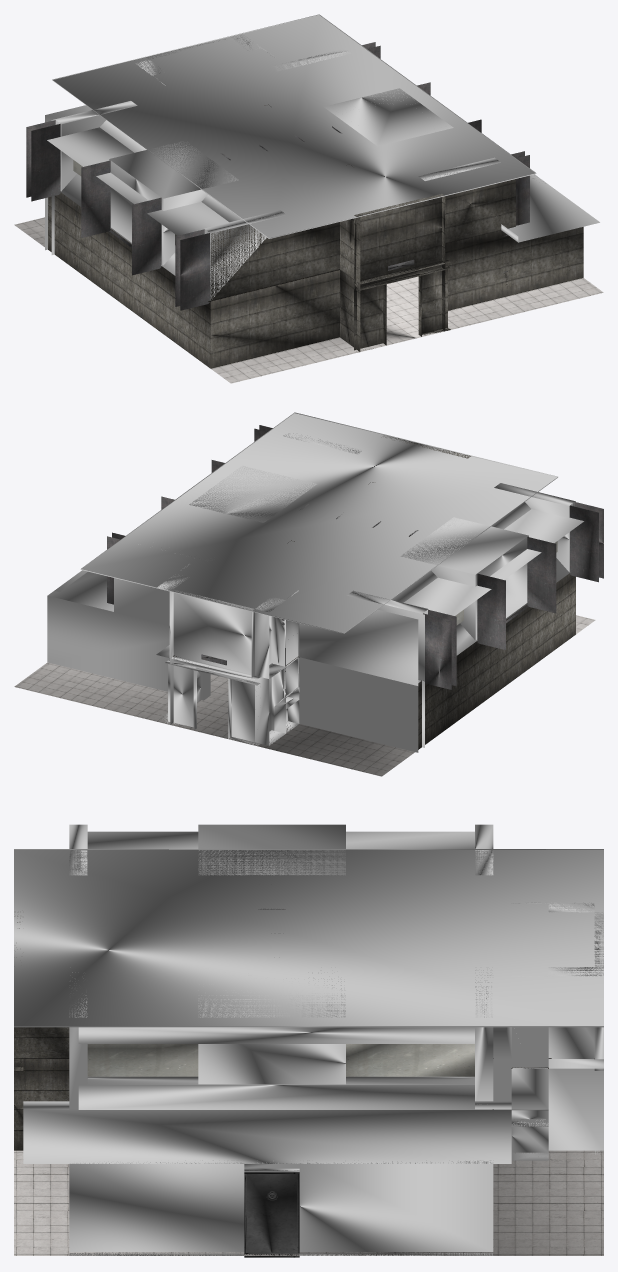
Rendered from checkpoint1_opt.obj.
3 renders of one model, top to bottom at view 1: azimuth 30°, elevation 25°; view 2: azimuth 150°, elevation 25°; view 3: azimuth 270°, elevation 25°, orthographic. The views are drawn at different scales.
Bounding box in the file's own units: 110 × 35.4 × 102.
